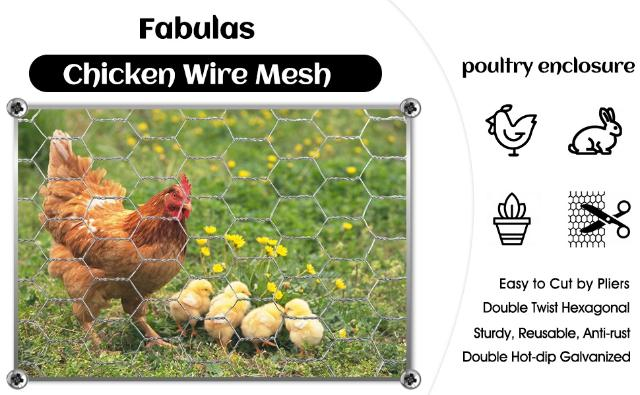Chicken: (39, 130, 193, 352)
